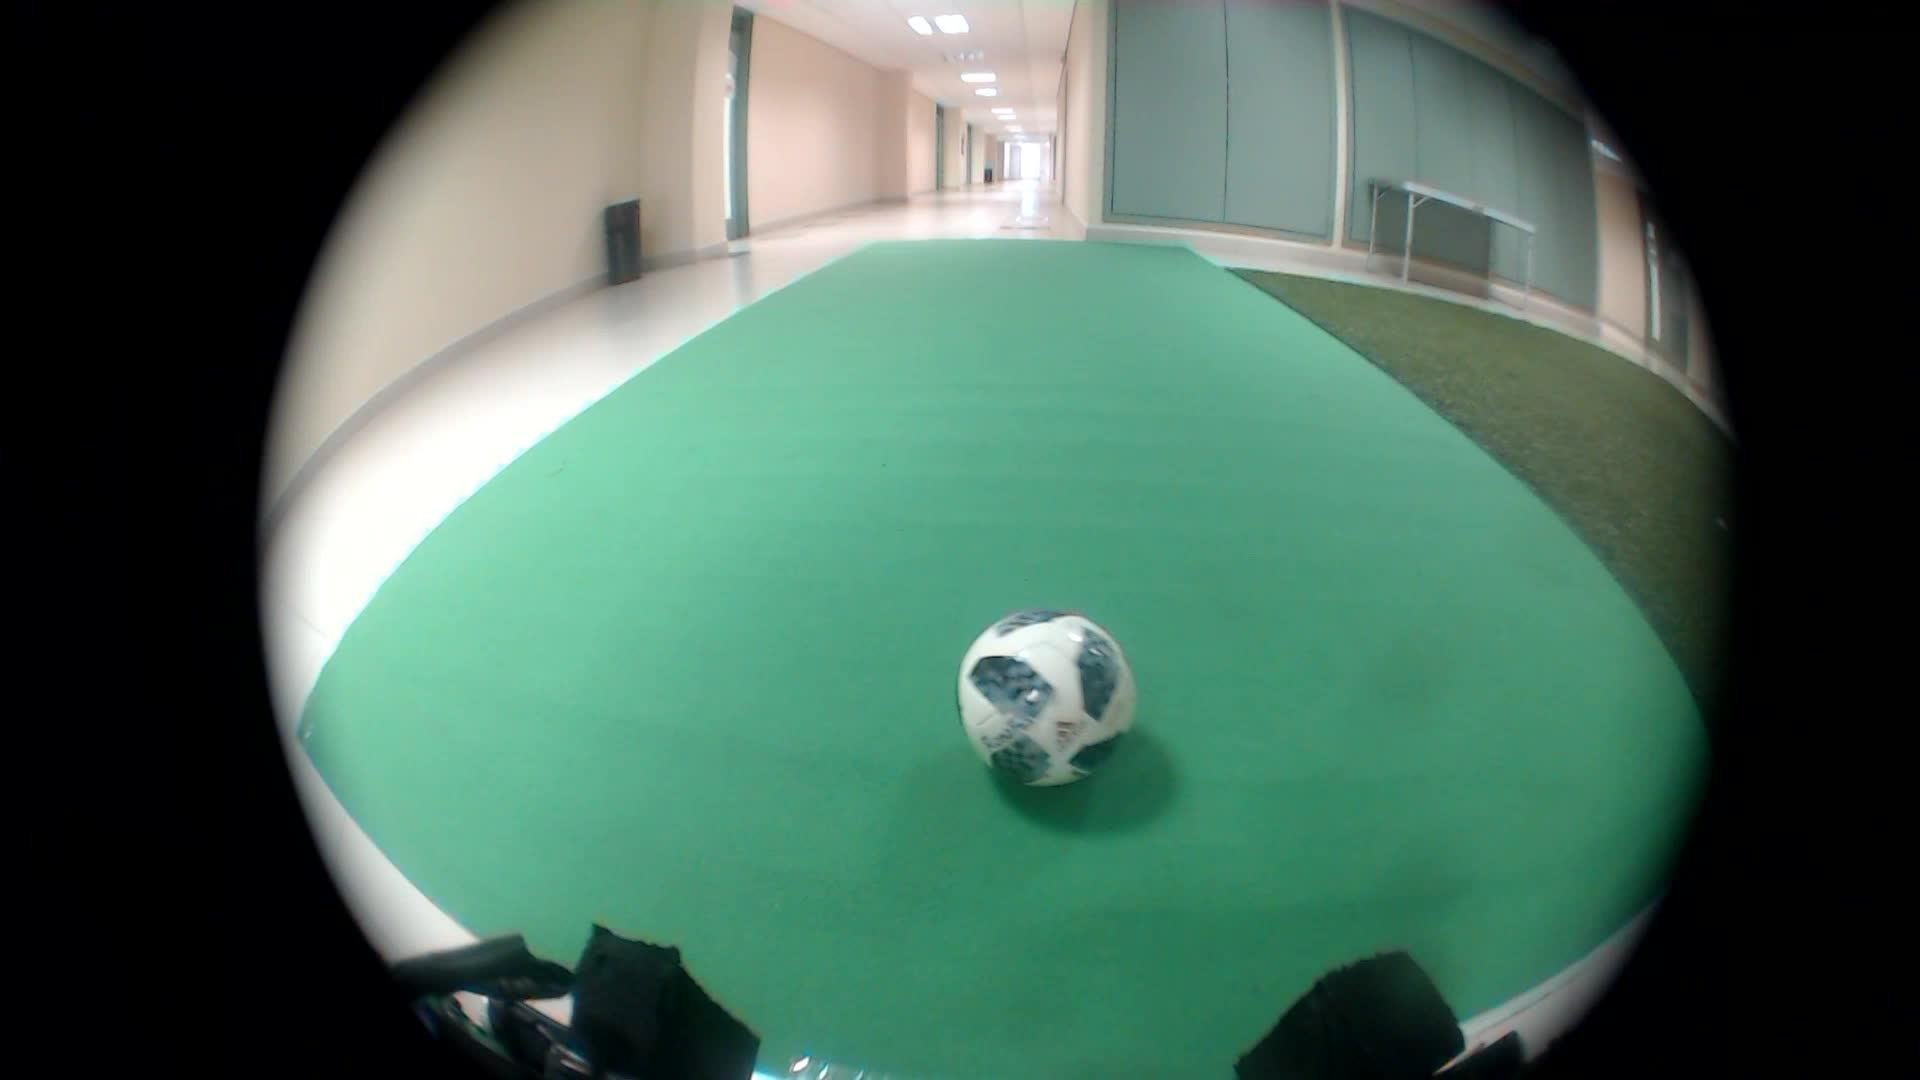ball: (920, 578, 1162, 808)
